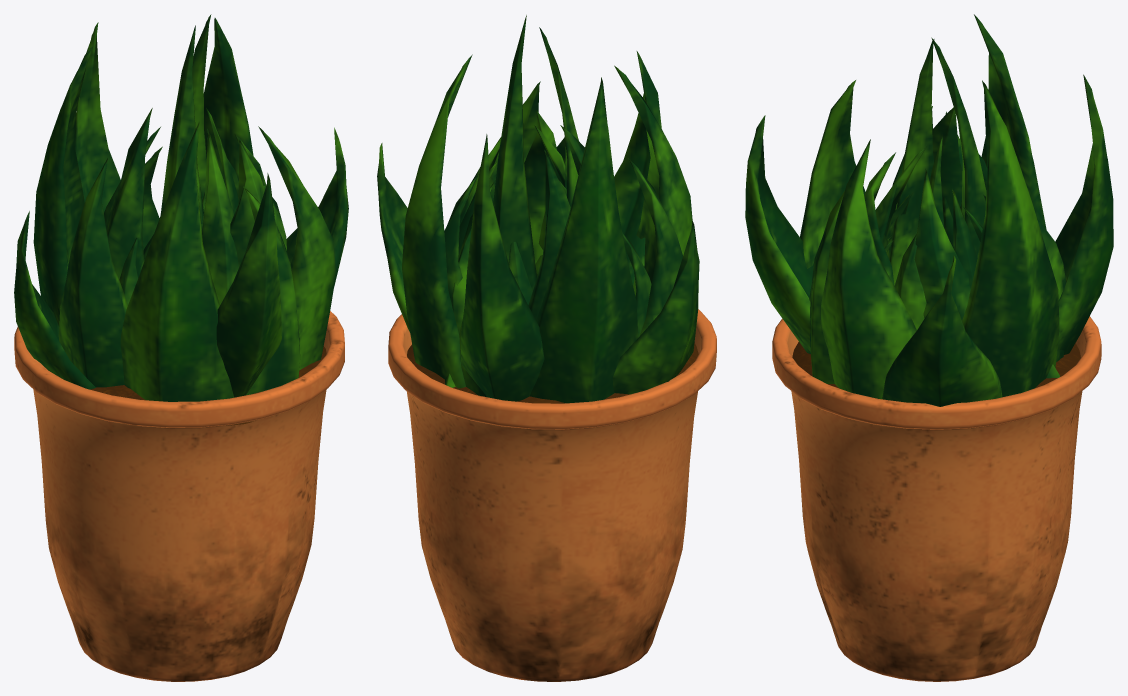
The model's file is Plantinha_2_NEC_CENA.fbx.
The picture shows the model from 3 angles, left to right: view 1: azimuth 30°, elevation 25°; view 2: azimuth 150°, elevation 25°; view 3: azimuth 270°, elevation 25°; orthographic projection.
Visible parts, largest first — view 1: Planta02; view 2: Planta02; view 3: Planta02.
Boxes of the visible parts, left/top/right/bottom form: Planta02: left=14, top=14, right=348, bottom=681; Planta02: left=377, top=15, right=716, bottom=681; Planta02: left=745, top=14, right=1113, bottom=681.
Bounding box in the file's own units: 44.81 × 82.07 × 44.33.
Materials: 1 (1 with a texture image).
